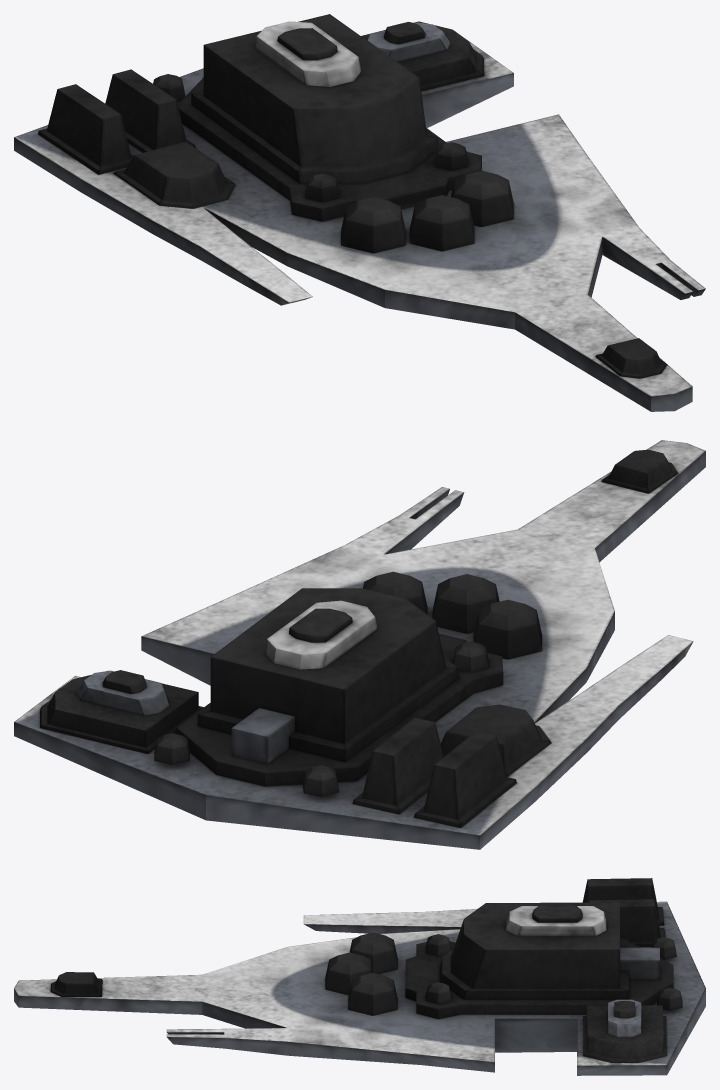
Rendered from Consorzio_5.fbx.
3 views of the same model, one above another, from view 1: azimuth 30°, elevation 25°; view 2: azimuth 150°, elevation 25°; view 3: azimuth 270°, elevation 25° (orthographic). The views are drawn at different scales.
Parts seen in each view (by area): view 1: Texture, Colore1; view 2: Texture, Colore1; view 3: Texture, Colore1.
Boxes of the visible parts, left/top/right/bottom form: Texture: left=14, top=14, right=705, bottom=411; Colore1: left=15, top=21, right=705, bottom=396; Texture: left=14, top=449, right=705, bottom=849; Colore1: left=15, top=440, right=705, bottom=834; Texture: left=14, top=878, right=705, bottom=1075; Colore1: left=14, top=901, right=673, bottom=1065.
Size of the model in its own units: 7.9 by 2.52 by 14.08.
2 materials, 2 textured.
